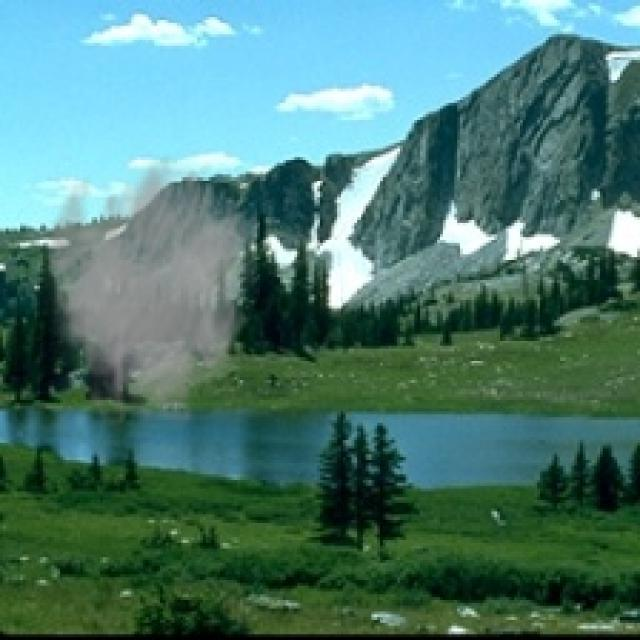Smoke: (31, 152, 258, 434)
